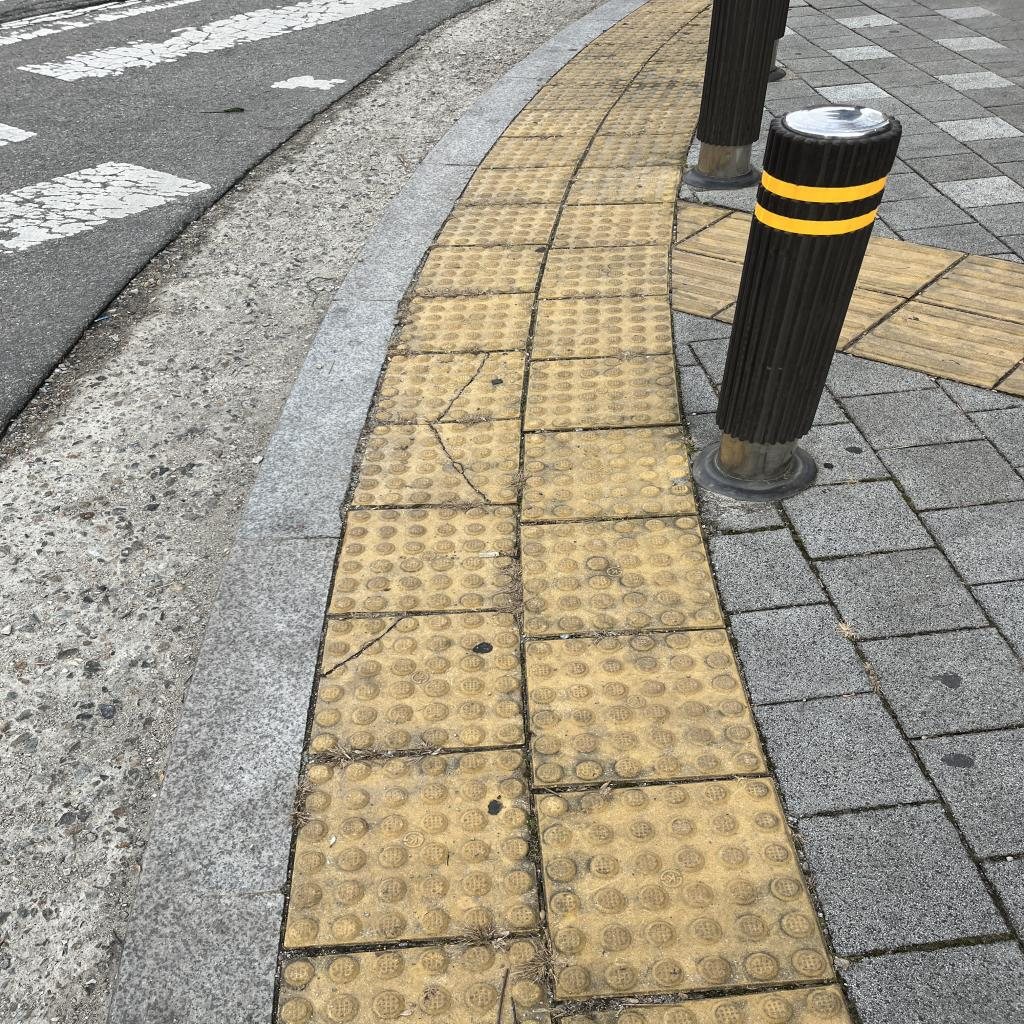Stop block broken: (352, 420, 522, 503), (371, 348, 529, 423)
Stop block normal: (526, 626, 766, 785), (520, 515, 724, 632), (551, 202, 675, 246)
